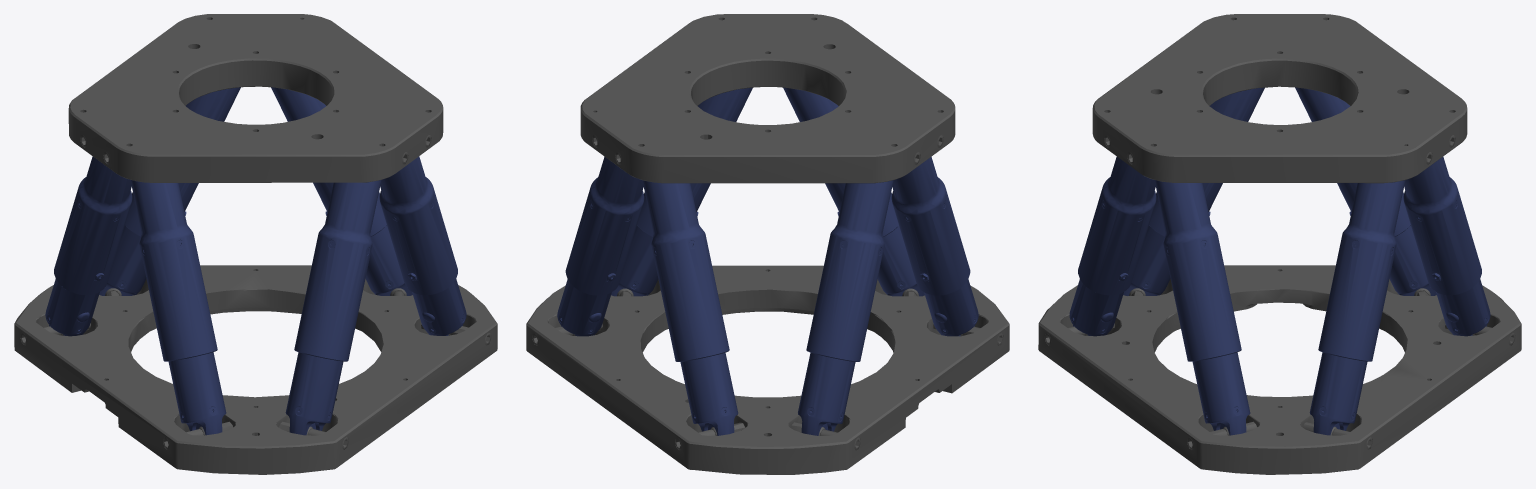
The model's file is hexapod_scene.glb.
3 renders of one model, left to right at view 1: azimuth 30°, elevation 25°; view 2: azimuth 150°, elevation 25°; view 3: azimuth 270°, elevation 25°, orthographic.
Parts seen in each view (by area): view 1: TopPLate, BasePlate, UpperLeg_6, UpperLeg_5, UpperLeg_4, UpperLeg_1, LowerLeg_5, LowerLeg_6, LowerLeg_4, LowerLeg_1, LowerLeg_2, LowerLeg_3 (+2 smaller); view 2: TopPLate, BasePlate, UpperLeg_3, UpperLeg_4, UpperLeg_2, UpperLeg_5, LowerLeg_4, LowerLeg_3, LowerLeg_5, LowerLeg_2, LowerLeg_1, LowerLeg_6 (+2 smaller); view 3: TopPLate, BasePlate, UpperLeg_2, UpperLeg_1, UpperLeg_6, UpperLeg_3, LowerLeg_1, LowerLeg_2, LowerLeg_6, LowerLeg_3, LowerLeg_4, LowerLeg_5 (+2 smaller).
Part boxes in pixels (x1=…): TopPLate: x1=68, y1=14, x2=443, y2=182; BasePlate: x1=14, y1=265, x2=497, y2=474; UpperLeg_6: x1=294, y1=180, x2=381, y2=361; UpperLeg_5: x1=130, y1=180, x2=217, y2=361; UpperLeg_4: x1=54, y1=156, x2=132, y2=295; UpperLeg_1: x1=379, y1=156, x2=457, y2=295; LowerLeg_5: x1=168, y1=352, x2=226, y2=435; LowerLeg_6: x1=285, y1=352, x2=343, y2=435; LowerLeg_4: x1=45, y1=279, x2=99, y2=336; LowerLeg_1: x1=412, y1=279, x2=466, y2=335; LowerLeg_2: x1=365, y1=225, x2=412, y2=295; LowerLeg_3: x1=99, y1=225, x2=146, y2=295; TopPLate: x1=580, y1=14, x2=955, y2=183; BasePlate: x1=526, y1=265, x2=1009, y2=474; UpperLeg_3: x1=642, y1=180, x2=729, y2=361; UpperLeg_4: x1=806, y1=180, x2=893, y2=361; UpperLeg_2: x1=565, y1=156, x2=644, y2=295; UpperLeg_5: x1=891, y1=156, x2=970, y2=295; LowerLeg_4: x1=798, y1=352, x2=855, y2=435; LowerLeg_3: x1=680, y1=352, x2=738, y2=435; LowerLeg_5: x1=924, y1=279, x2=978, y2=336; LowerLeg_2: x1=557, y1=279, x2=611, y2=336; LowerLeg_1: x1=611, y1=226, x2=658, y2=296; LowerLeg_6: x1=877, y1=226, x2=924, y2=296; TopPLate: x1=1092, y1=14, x2=1467, y2=183; BasePlate: x1=1038, y1=265, x2=1521, y2=474; UpperLeg_2: x1=1318, y1=180, x2=1405, y2=361; UpperLeg_1: x1=1154, y1=180, x2=1241, y2=361; UpperLeg_6: x1=1078, y1=156, x2=1156, y2=295; UpperLeg_3: x1=1403, y1=157, x2=1481, y2=295; LowerLeg_1: x1=1192, y1=352, x2=1250, y2=435; LowerLeg_2: x1=1309, y1=352, x2=1367, y2=435; LowerLeg_6: x1=1069, y1=279, x2=1123, y2=336; LowerLeg_3: x1=1436, y1=279, x2=1490, y2=336; LowerLeg_4: x1=1389, y1=225, x2=1436, y2=295; LowerLeg_5: x1=1123, y1=225, x2=1170, y2=295.
Bounding box in the file's own units: 0.2805 × 0.2 × 0.3135.
